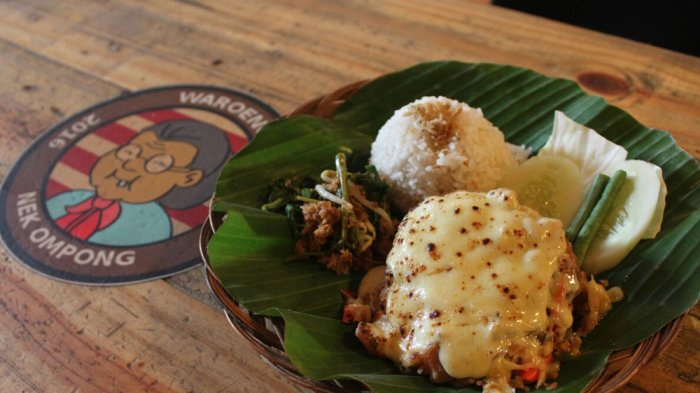ayam_geprek: (375, 194, 602, 390)
